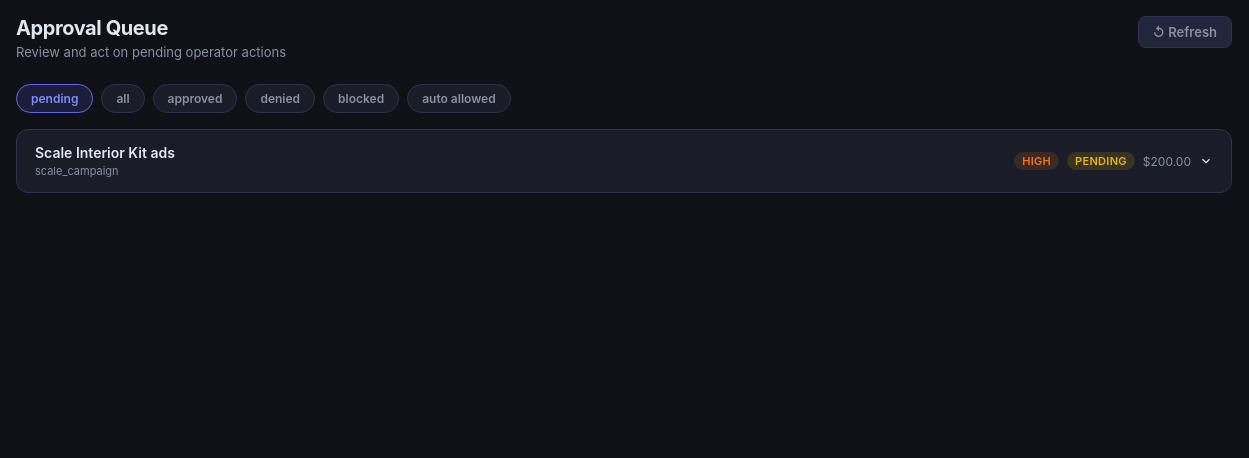
ApprovalQueue gate UI › shows approve and deny for pending records, not execute
Click the text "Scale Interior Kit ads": (105, 152) [35,144,175,161]
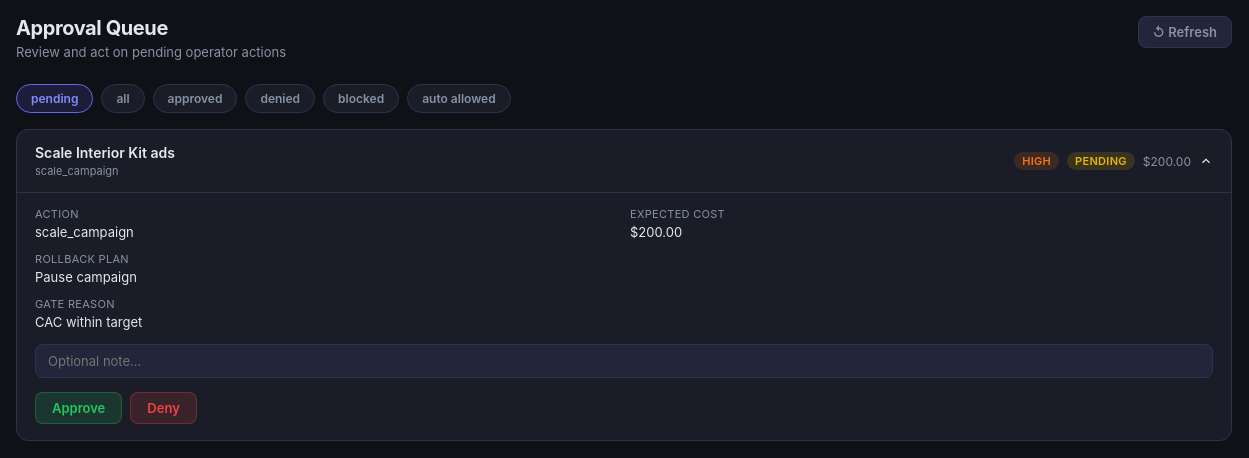
Check: the button "Approve" is shown, box [35,392,122,424]
Check: the button "Deny" is shown, box [130,392,197,424]
